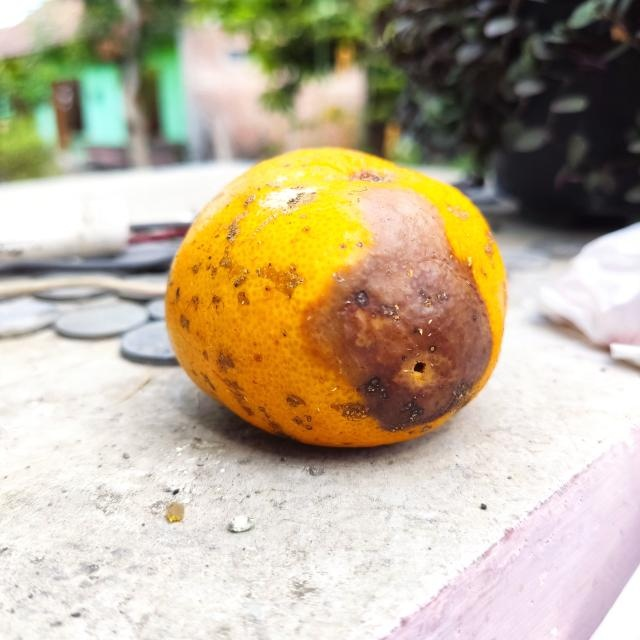agrume: (163, 145, 513, 452)
